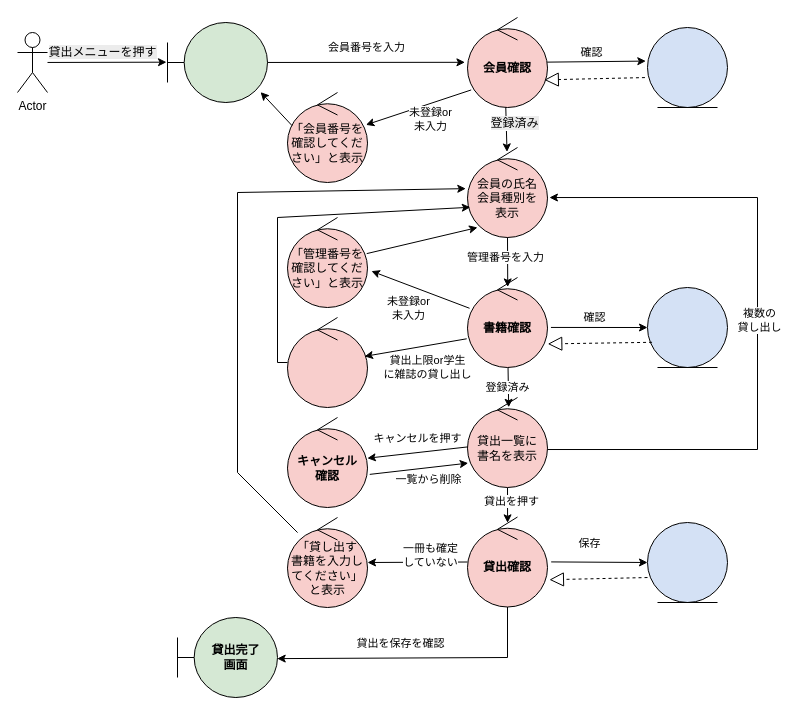
This 798x715 diagram has some shape labels left out. Each missing label, with the centre of its shape:
"会員情報" goes at point 687,67.
"図書貸出 画面" goes at point 217,62.
"書籍情報" goes at point 687,327.
"貸出できない理由を表示" goes at point 327,362.
"貸出情報" goes at point 687,562.
